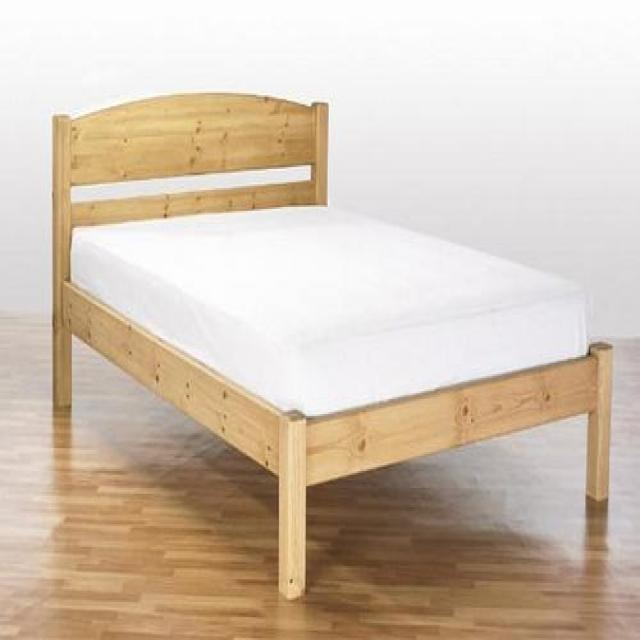bed: (50, 89, 613, 600)
